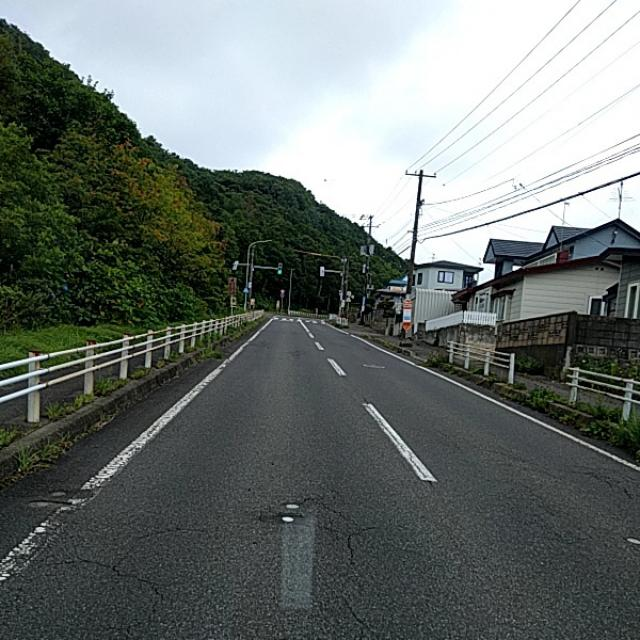pothole: (217, 470, 390, 586)
